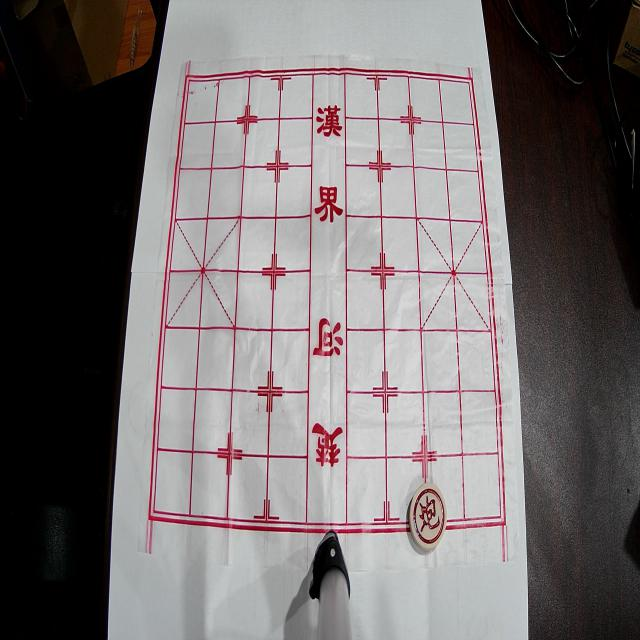red-cannon: (409, 483, 447, 550)
